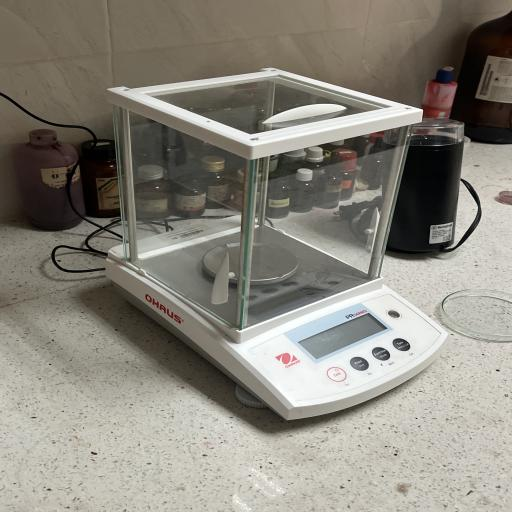Balanza_Analitica_Ohaus: (93, 60, 459, 427)
